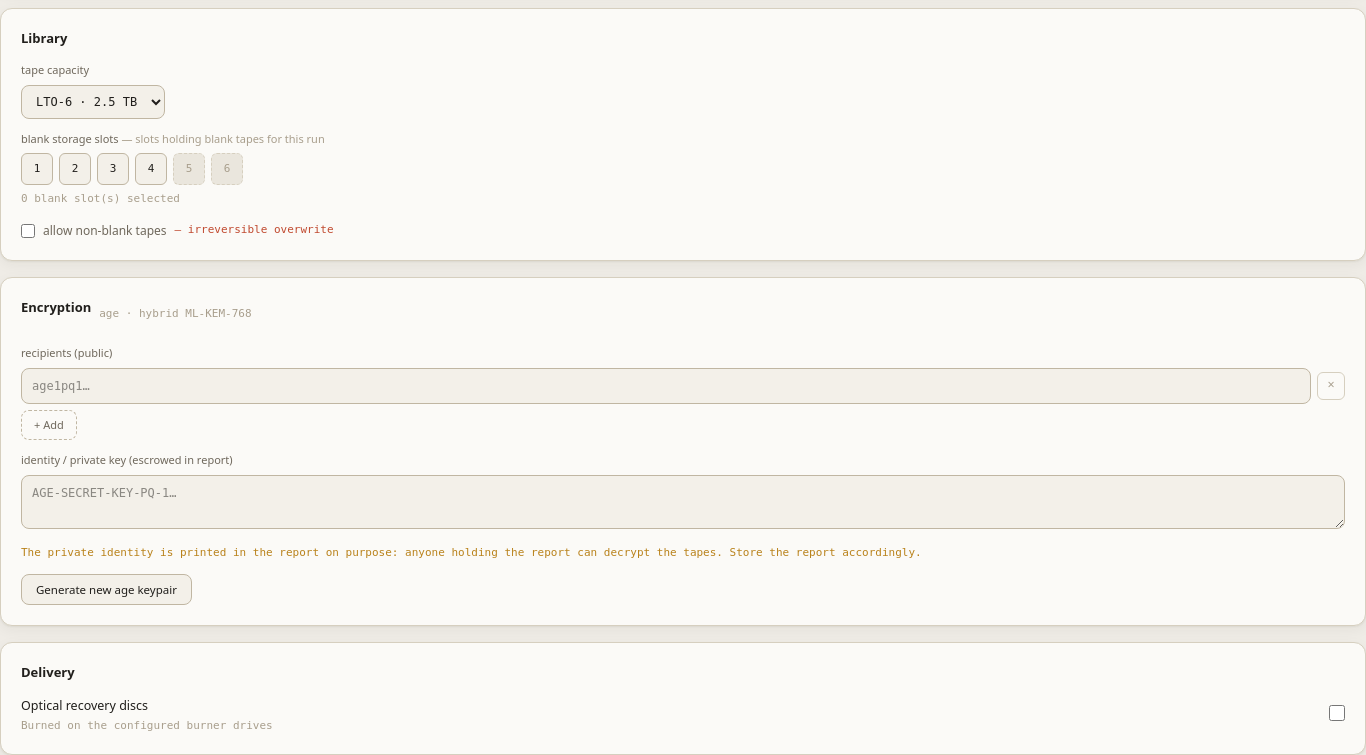
Test: ConfigForm › reveals the optical-burn fields only once enabled
(page scrolled)
Expected: the text "copies per run" is not shown
Click the checkbox named "Enable optical recovery discs": (1337, 713) [1329, 705, 1345, 721]
(page scrolled)
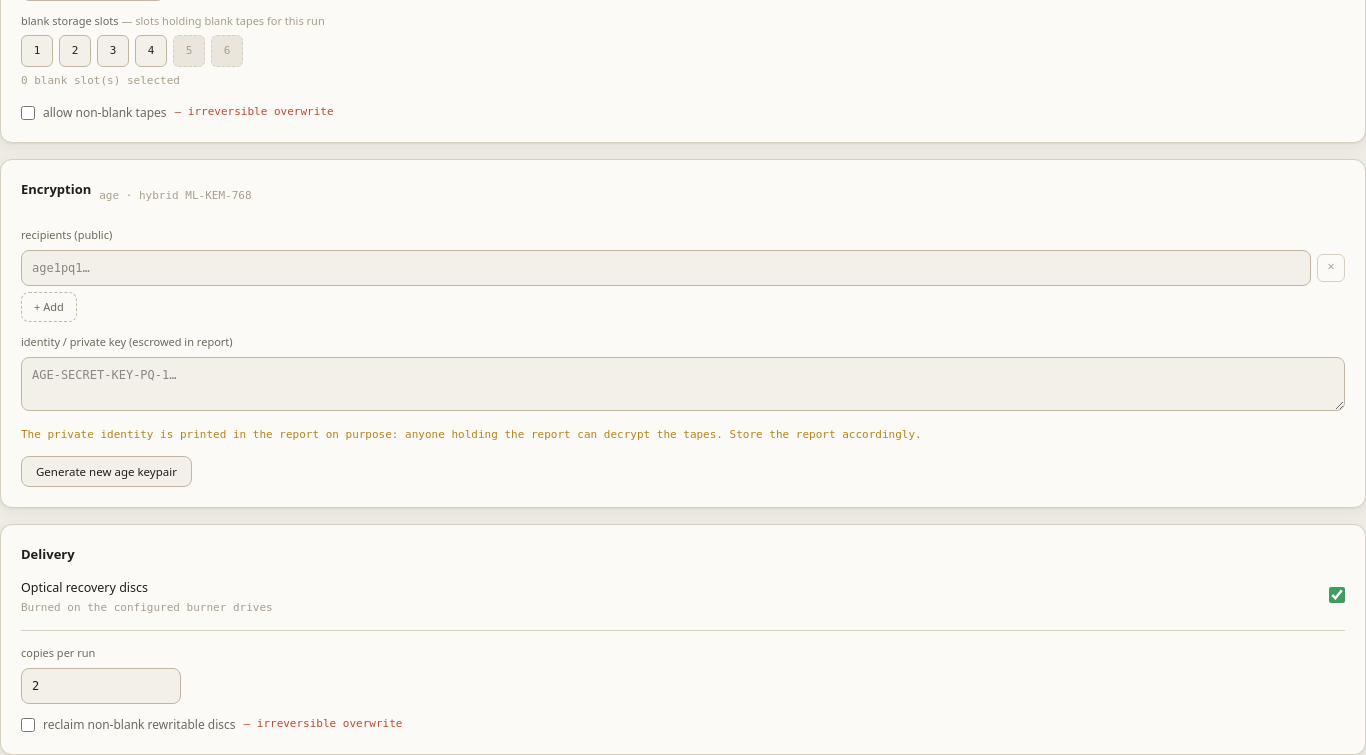
Now the text "copies per run" is shown, box [21, 645, 95, 660]
